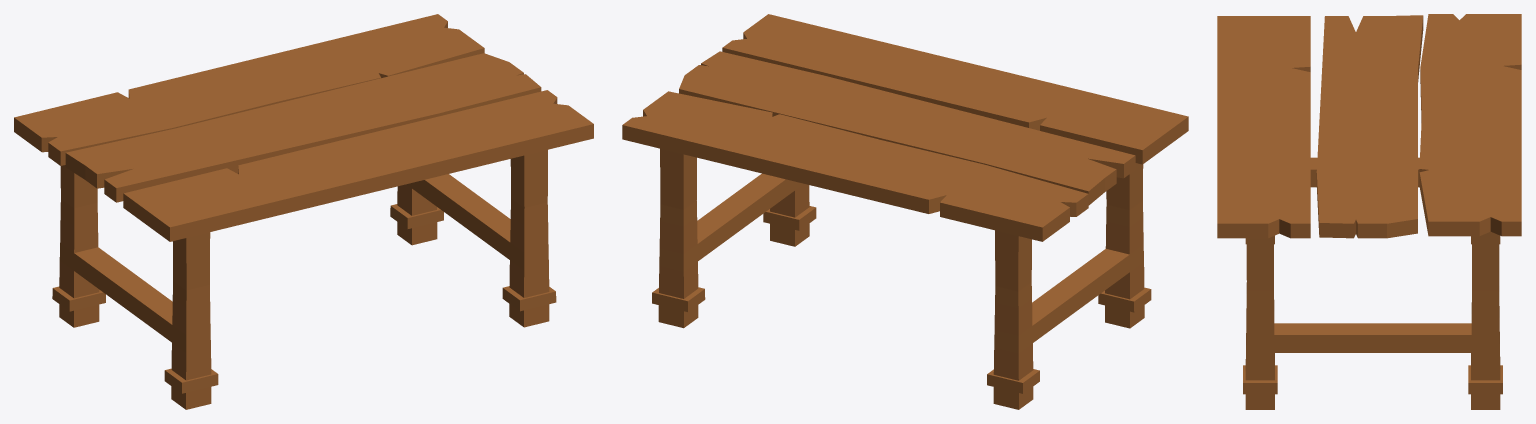
The model's file is meja.glb.
The picture shows the model from 3 angles, left to right: view 1: azimuth 30°, elevation 25°; view 2: azimuth 150°, elevation 25°; view 3: azimuth 270°, elevation 25°; orthographic projection.
Parts seen in each view (by area): view 1: Cube.004; view 2: Cube.004; view 3: Cube.004.
Part boxes in pixels (x1,y1,x2,y2): Cube.004: (14,14,593,409); Cube.004: (622,14,1188,409); Cube.004: (1217,14,1521,409).
Bounding box in the file's own units: 6.1 × 2.73 × 3.74.
